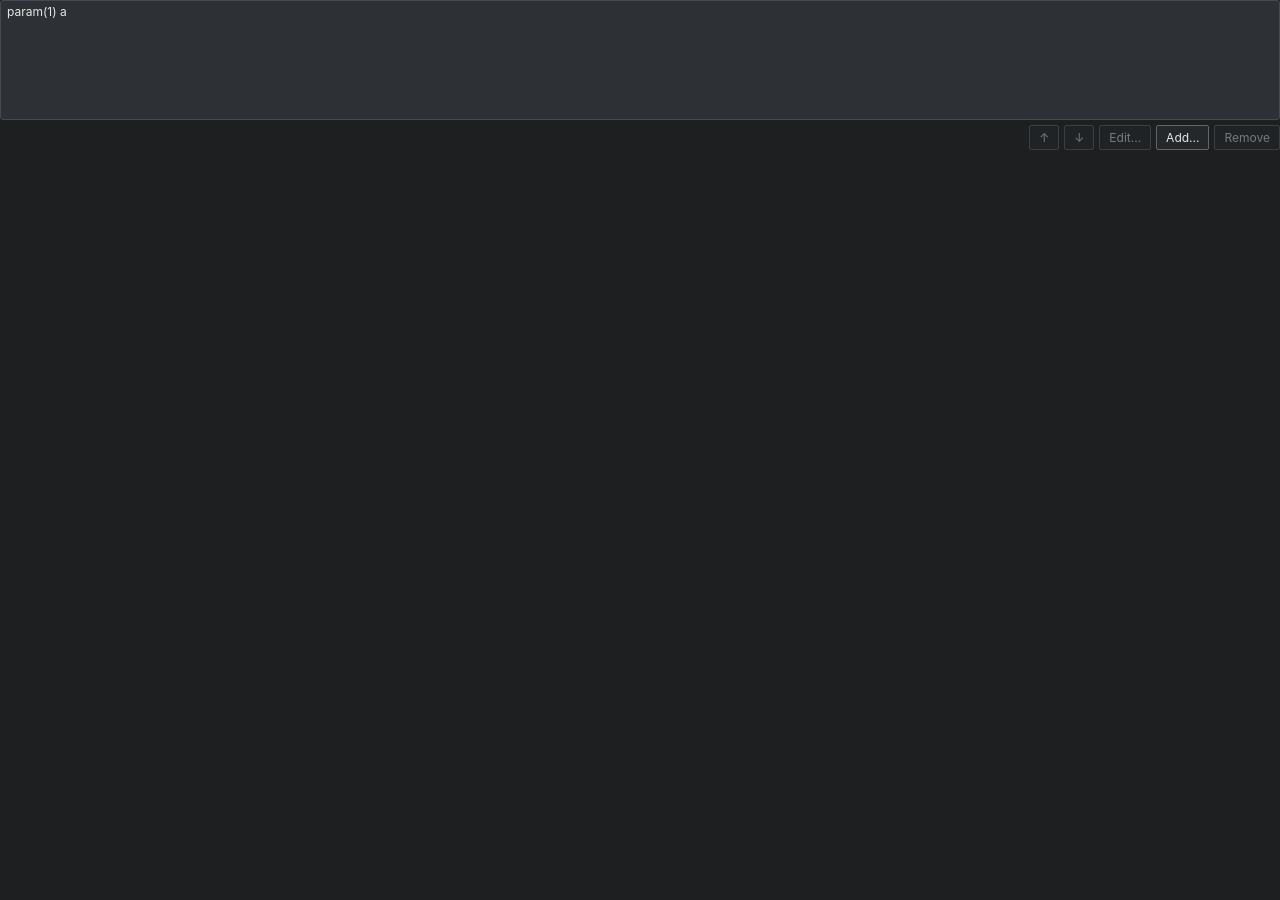
Test case: ParamDefListEditor › puts a row whose sequence is past the end of the list last
The width and height of the screenshot is (1280, 900).
Click the button "Add..." at (1183, 138), box [1156,125,1210,150]
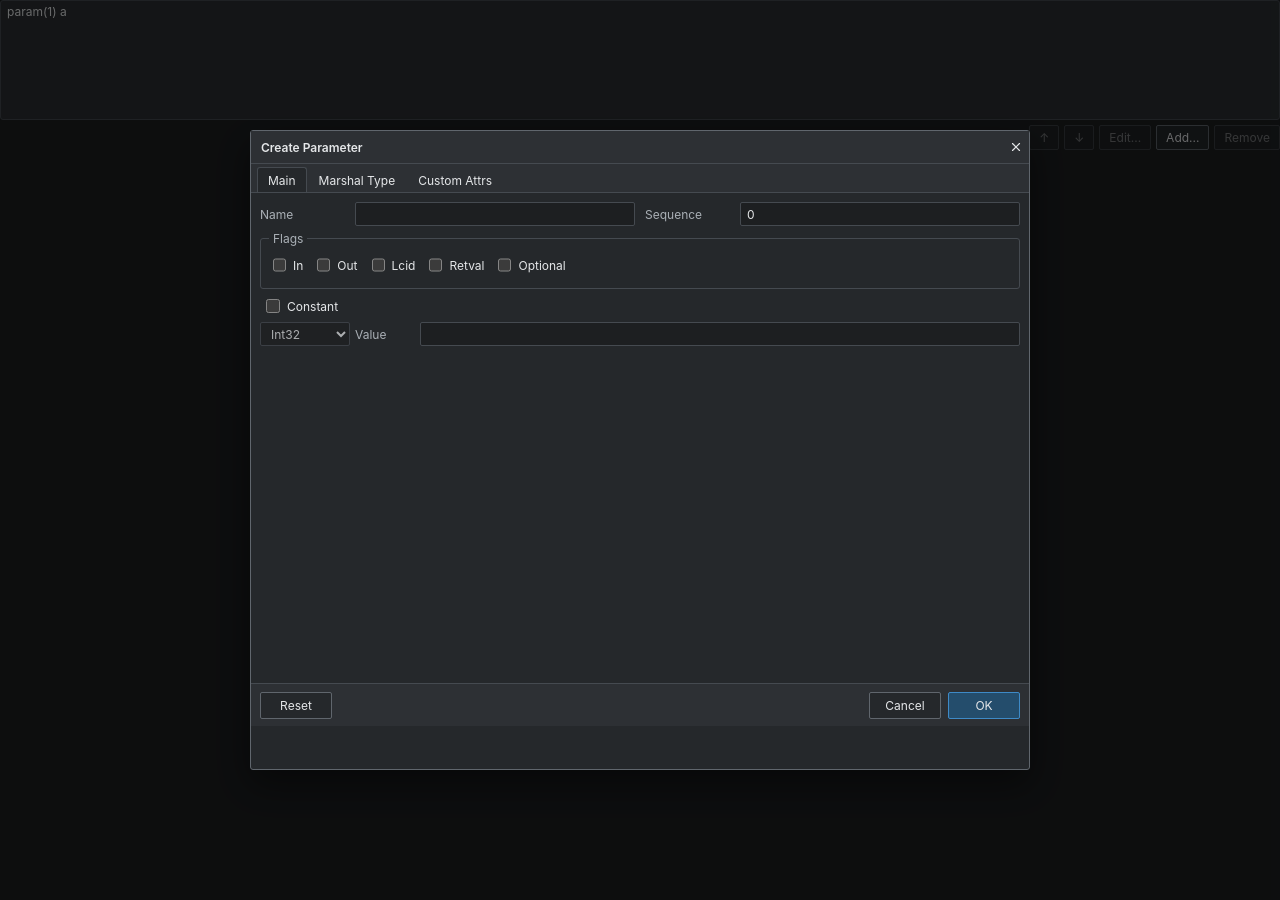
Type "b" into the field named "Name" at (495, 214), box [355,202,635,226]
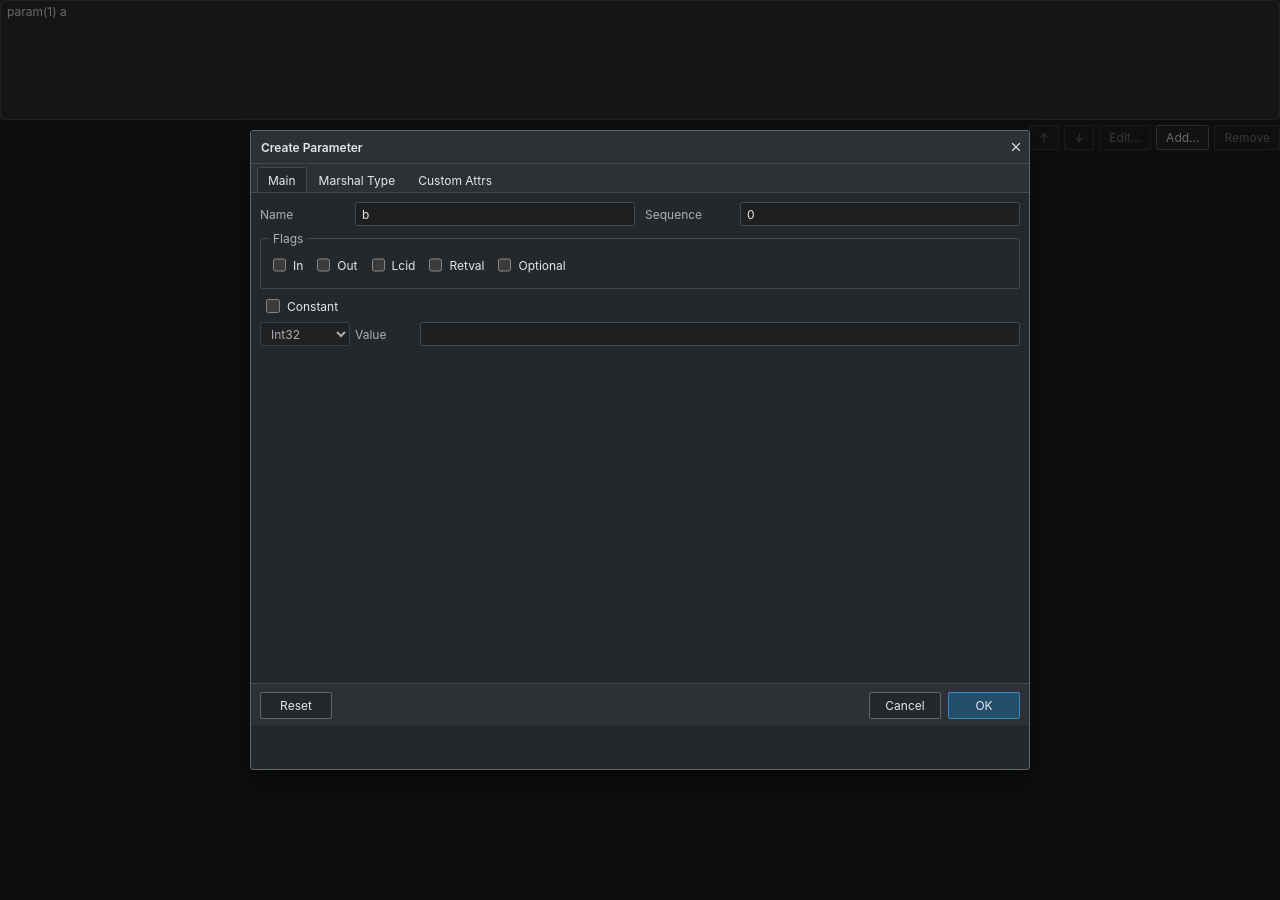
Replace the text in the field named "Sequence" with "12" at (880, 214), box [740,202,1020,226]
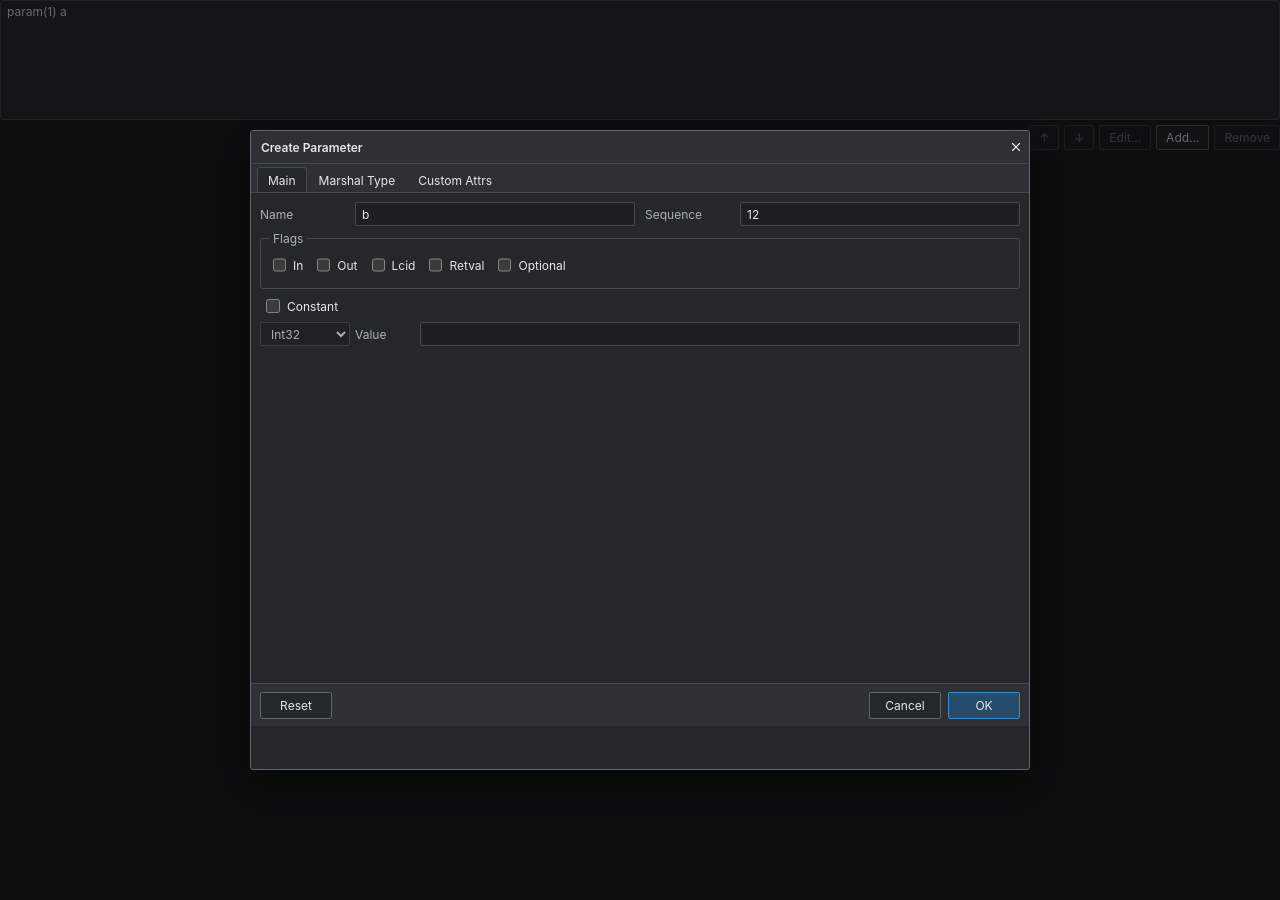
Click the button "OK" at (984, 705), box [948,692,1020,718]
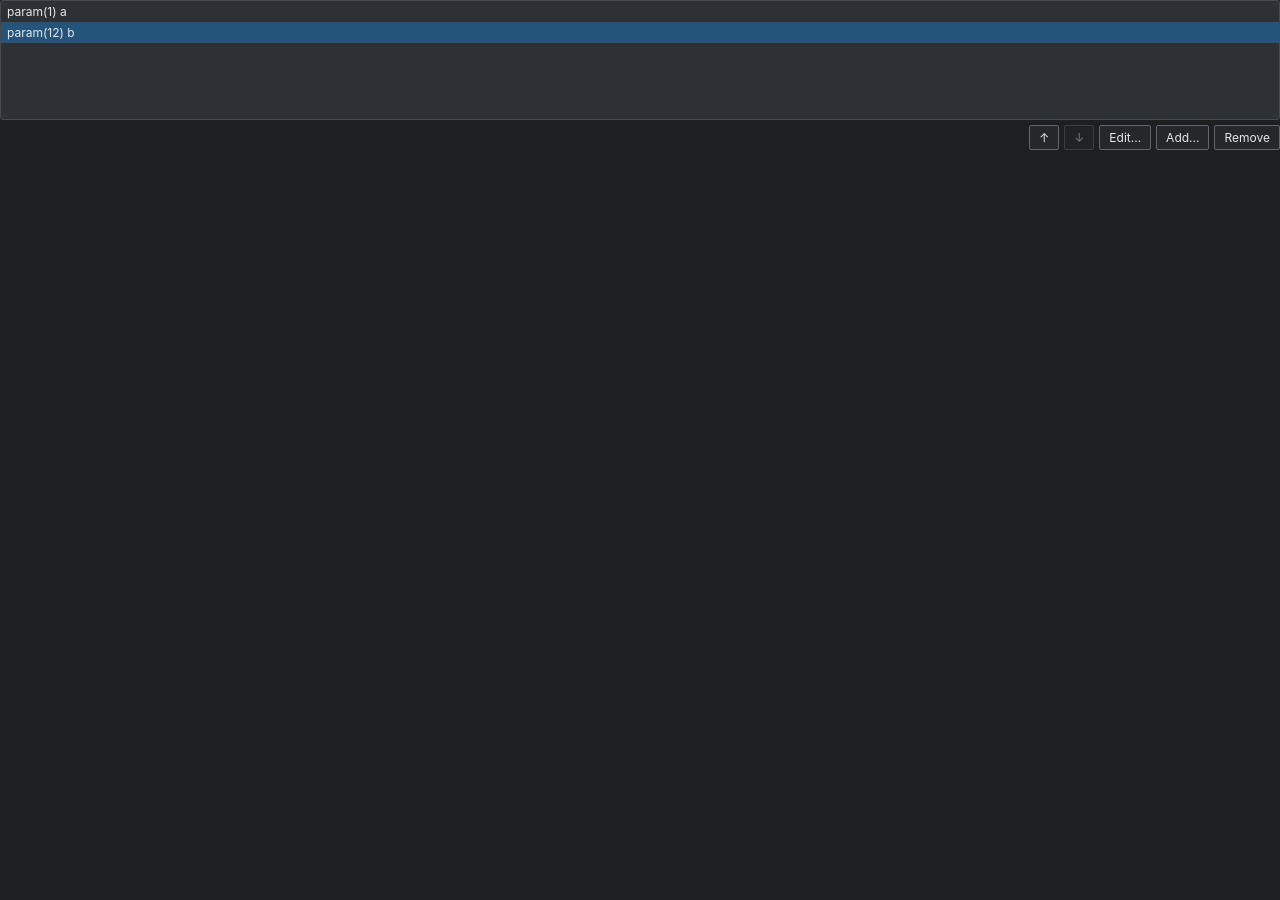
Expected: the number of options is 2, [7,4,67,19]; [1,22,1279,43]
Expected: the option "param(12) b" is shown, [1,22,1279,43]
